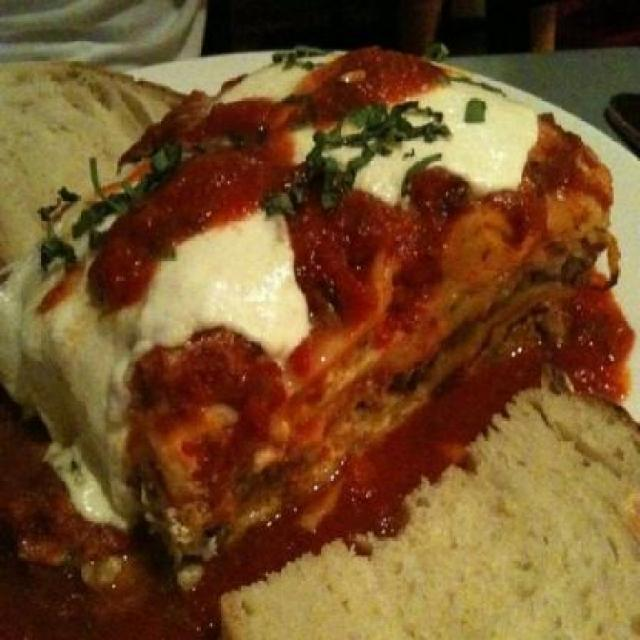Lasagna: (68, 67, 610, 502)
